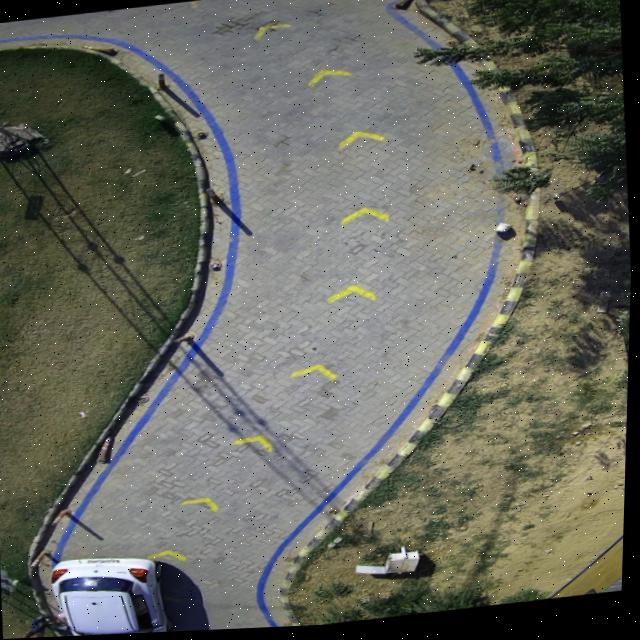car: (52, 556, 173, 637)
